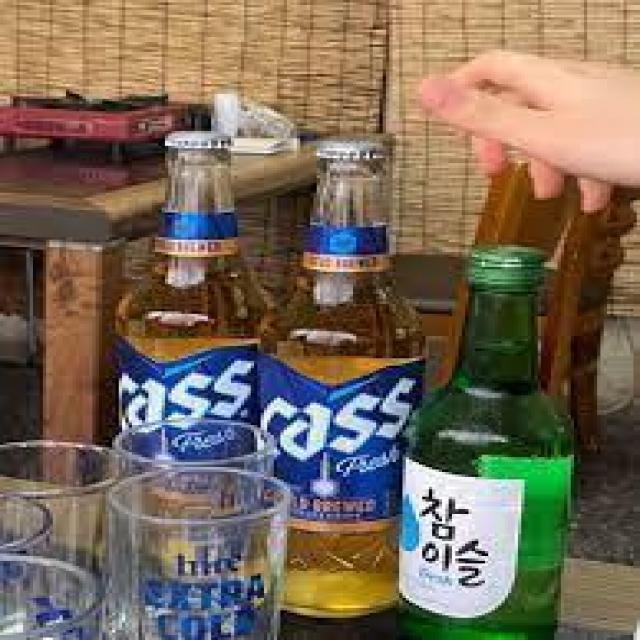beer-bottle: (254, 136, 436, 613), (99, 128, 274, 580)
soju-bottle: (392, 240, 579, 640)
